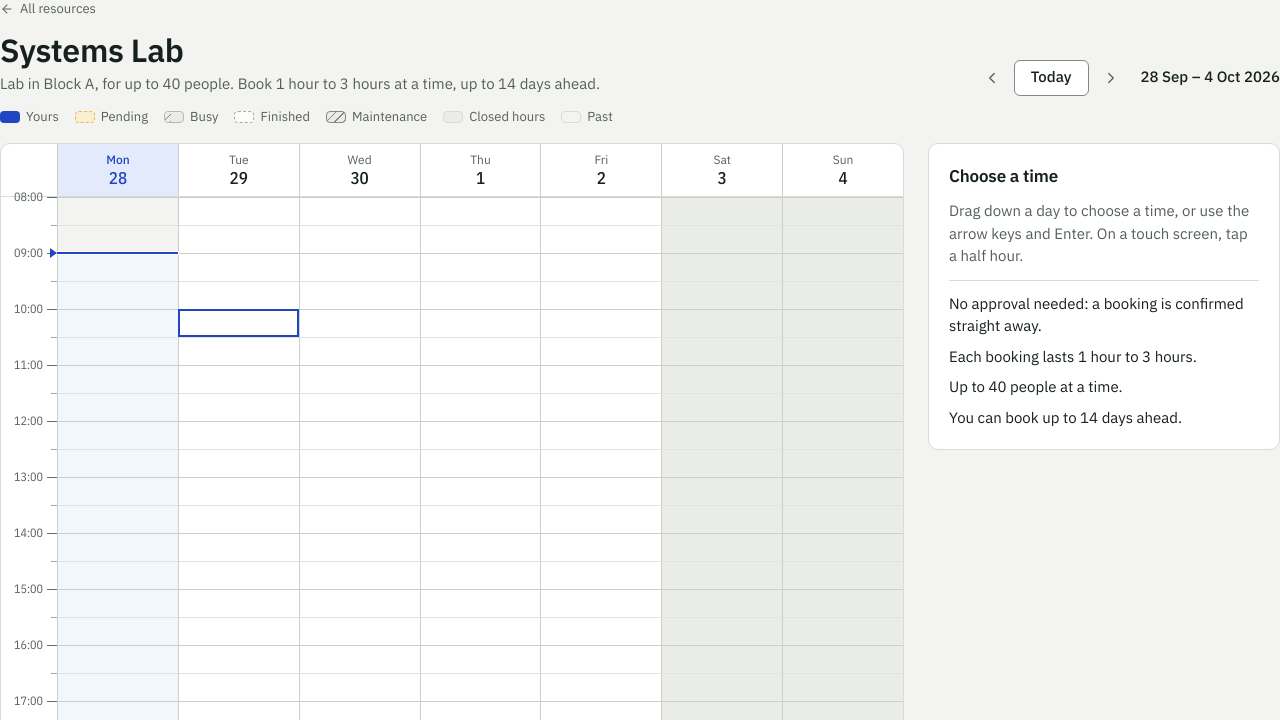
Test: booking from the calendar › reuses the Idempotency-Key when retrying after a network failure, and not for a changed request
This screenshot has width=1280, height=720.
Press Enter
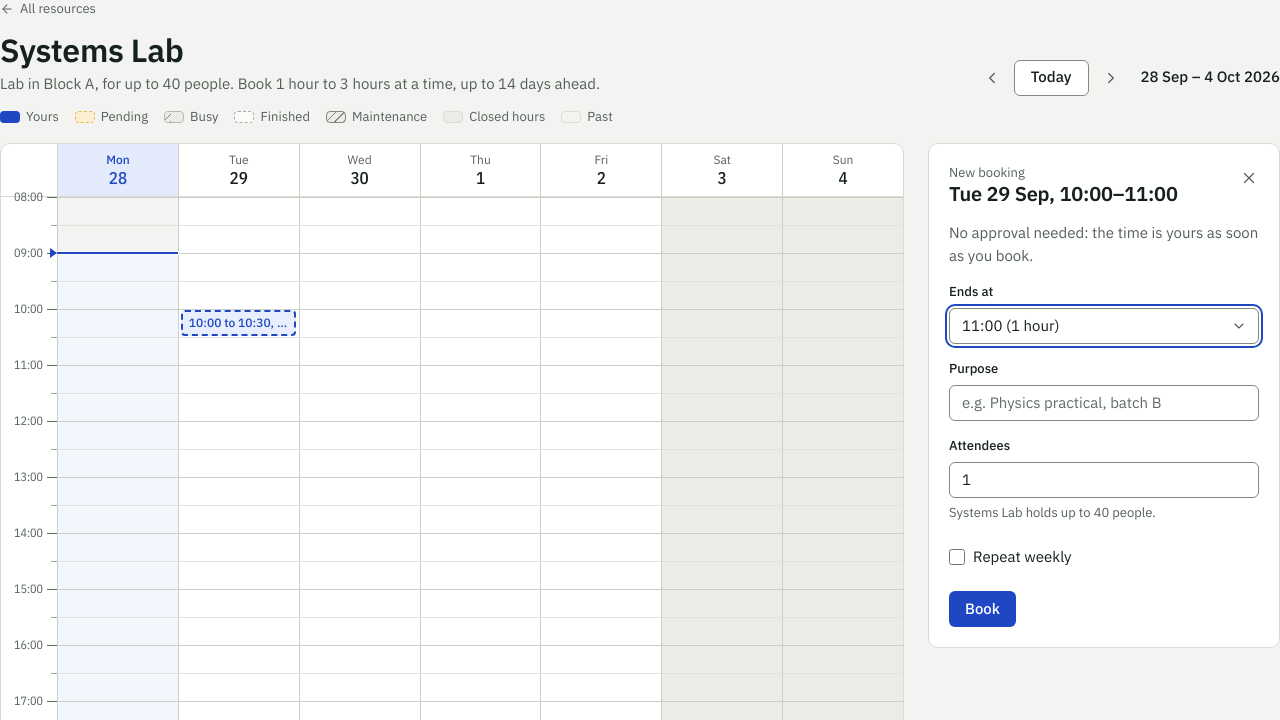
Click the button "Book": coordinates (982, 609) x1=949 y1=591 x2=1016 y2=627
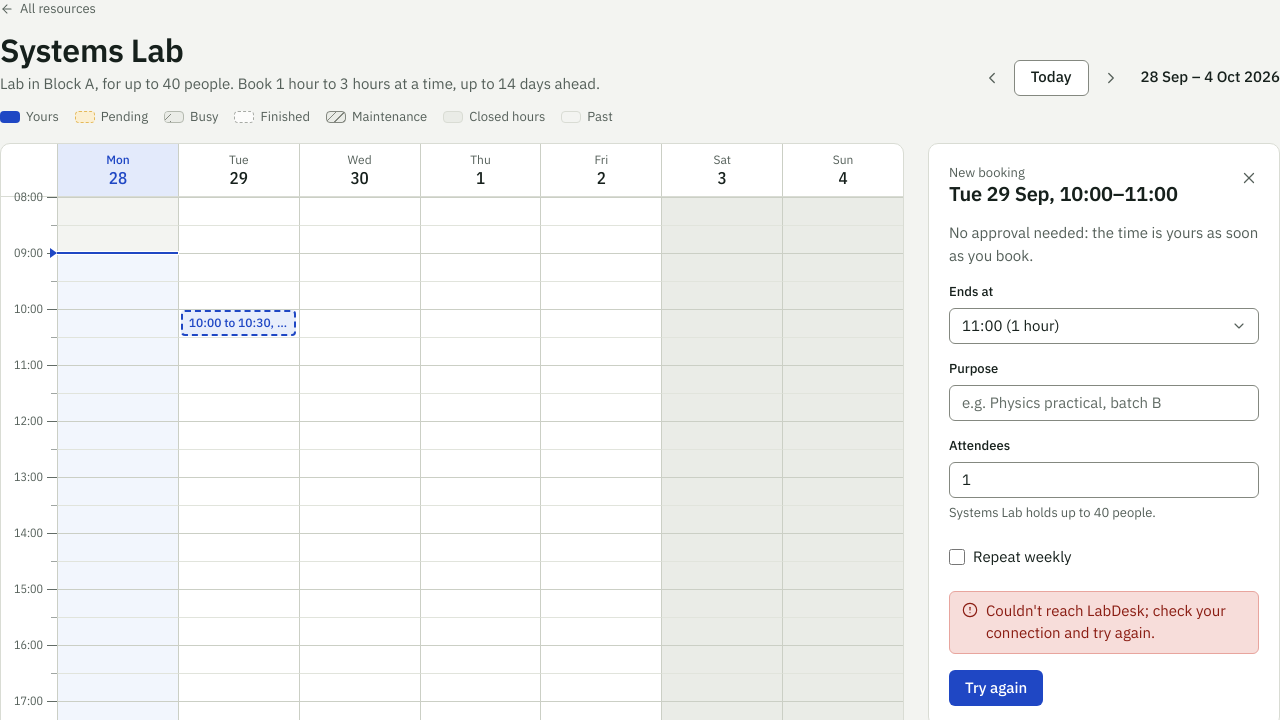
Result: the text "Couldn't reach LabDesk; check your connection and try again." is shown at x1=986 y1=600 x2=1246 y2=645
The request changes: a new attempt.
Click the button "Try again": coordinates (996, 688) x1=949 y1=670 x2=1043 y2=706
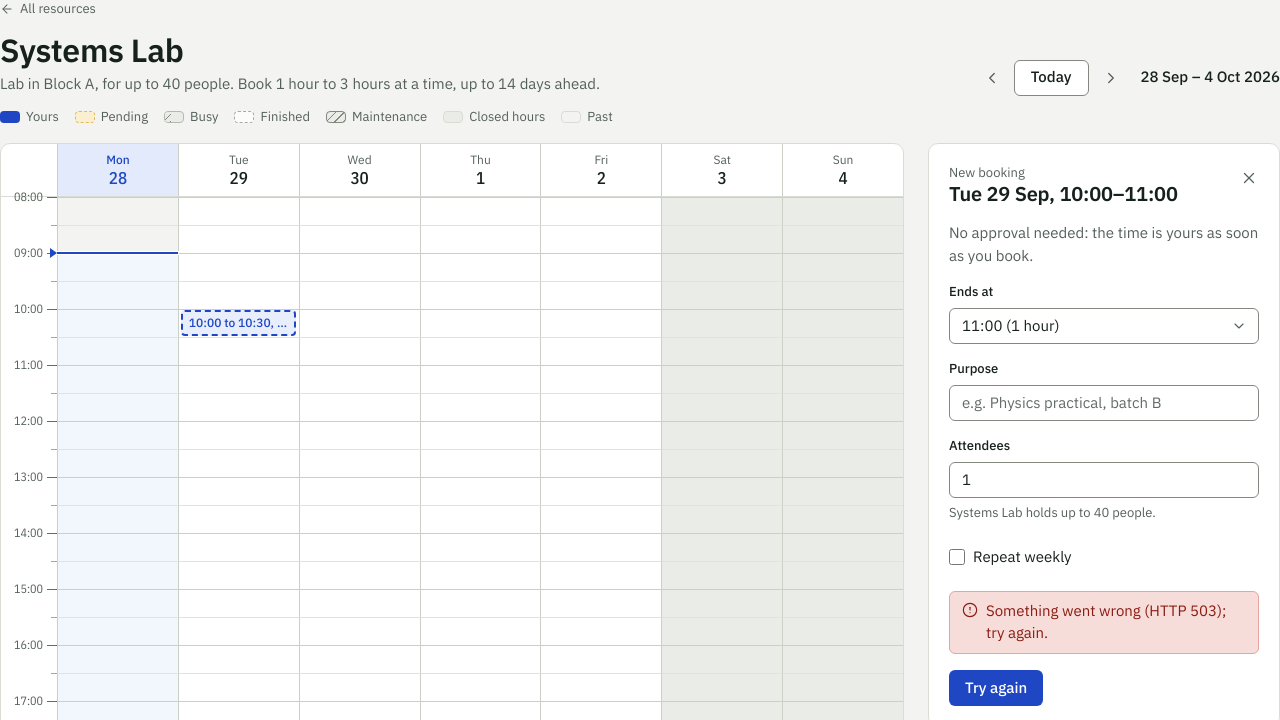
Result: the text "Something went wrong (HTTP 503); try again." is shown at x1=986 y1=600 x2=1246 y2=645
In the field labelled "Purpose": coordinates (1104, 403) x1=949 y1=385 x2=1259 y2=421, type "x"
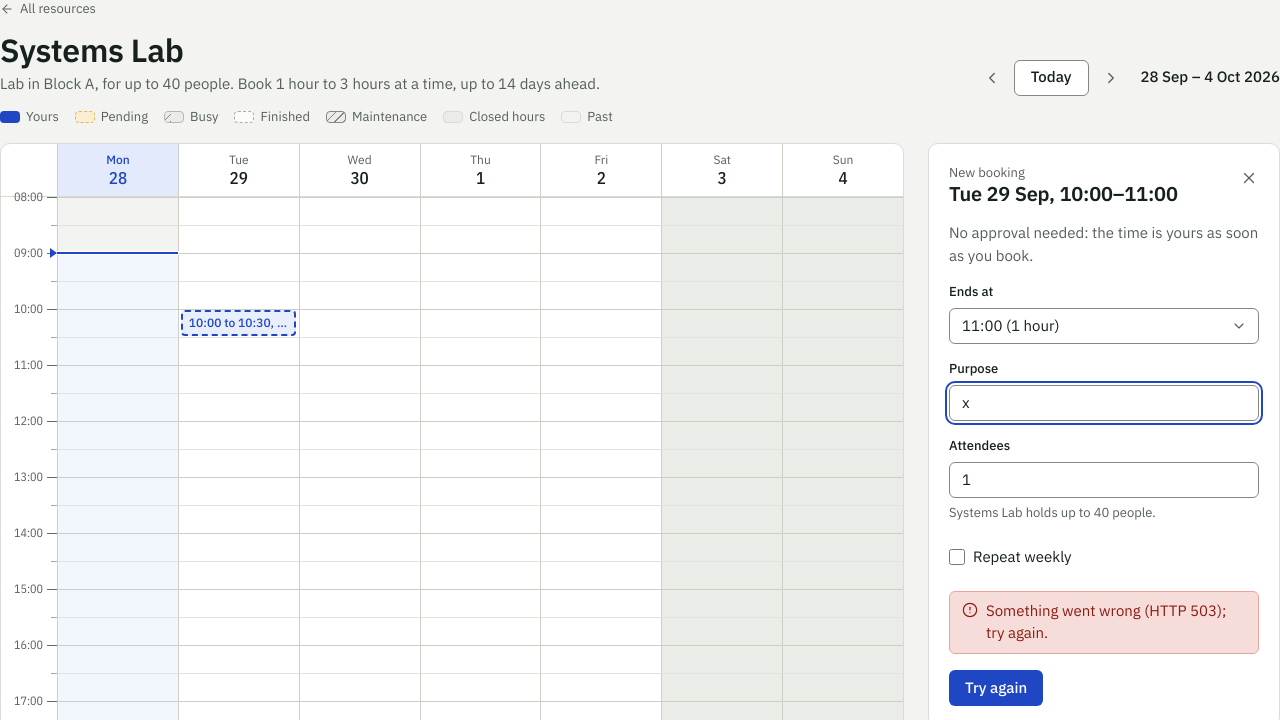
Click the button "Try again": coordinates (996, 688) x1=949 y1=670 x2=1043 y2=706
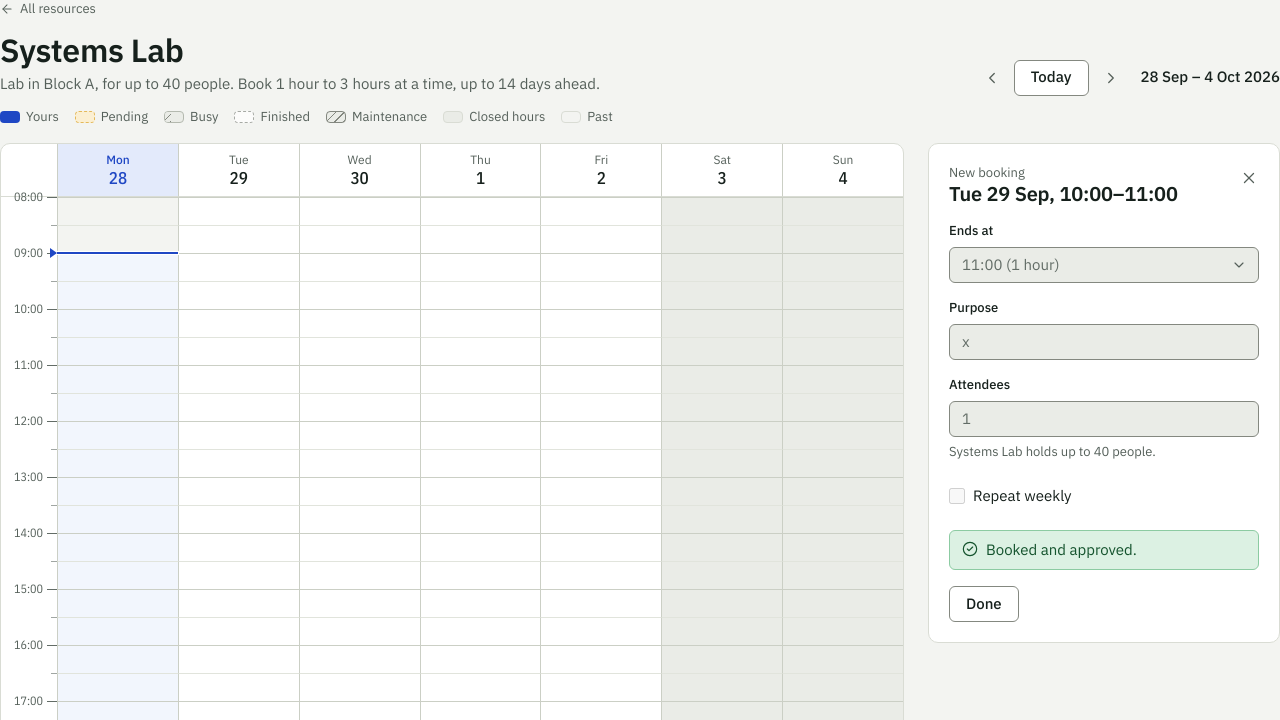
Result: the text "Booked and approved." is shown at x1=986 y1=539 x2=1137 y2=561
